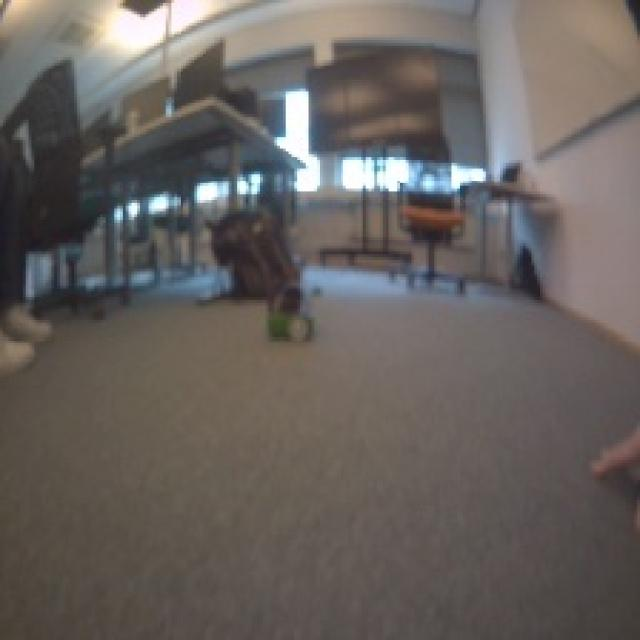robot: (263, 286, 318, 343)
